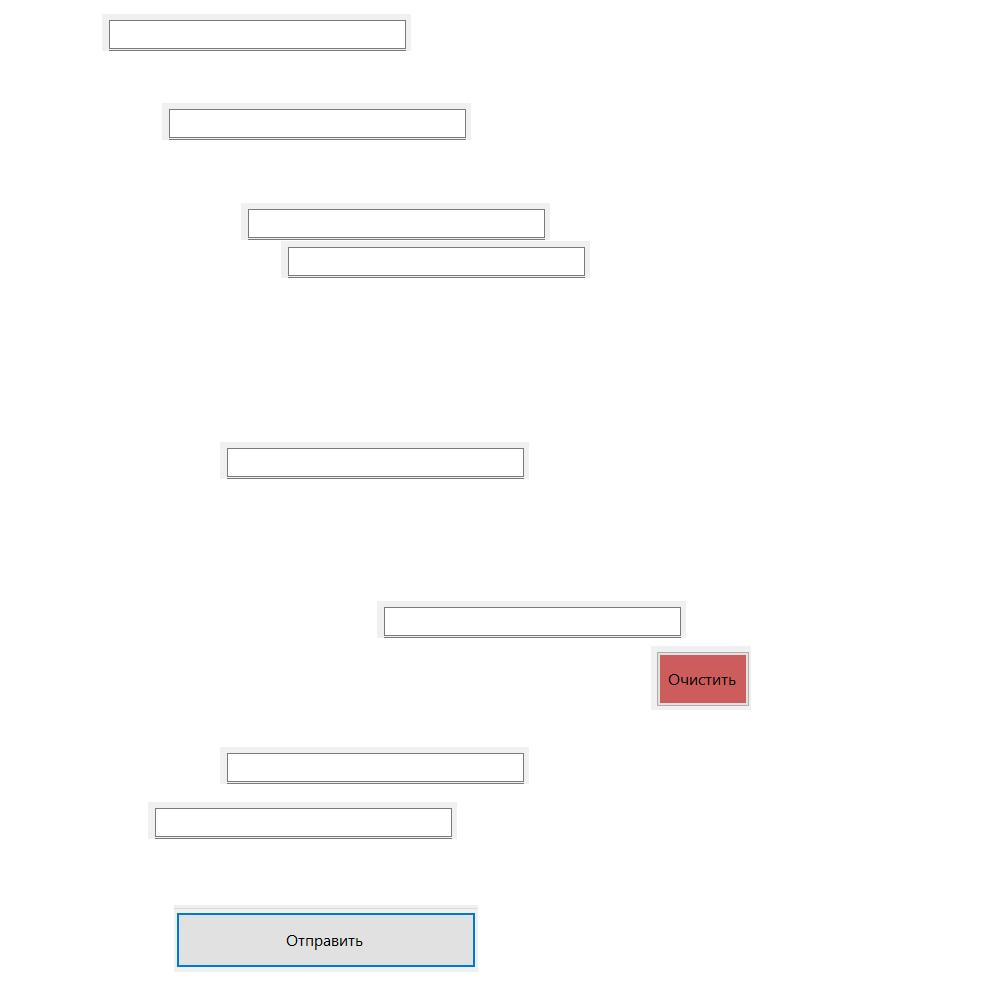Button: (174, 905, 478, 972), (651, 646, 751, 710)
EditText-: (162, 103, 471, 140), (281, 241, 590, 278), (220, 747, 529, 784), (220, 442, 529, 479), (241, 203, 550, 240), (377, 601, 686, 638), (102, 14, 411, 51), (148, 802, 457, 839)
